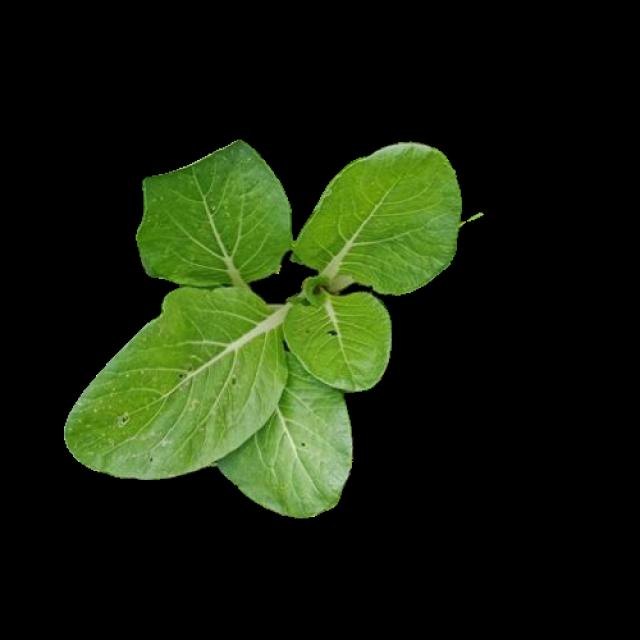not-mature: (65, 141, 462, 518)
unhealthy: (67, 290, 288, 478), (211, 379, 353, 512), (284, 293, 392, 387)
